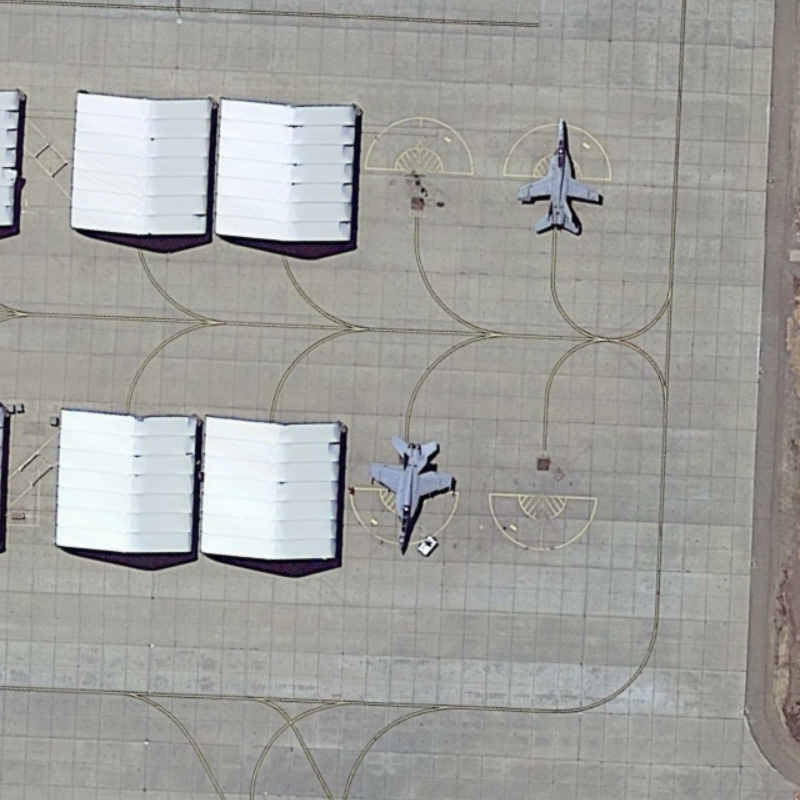A16: (360, 428, 465, 559), (510, 111, 610, 239)
